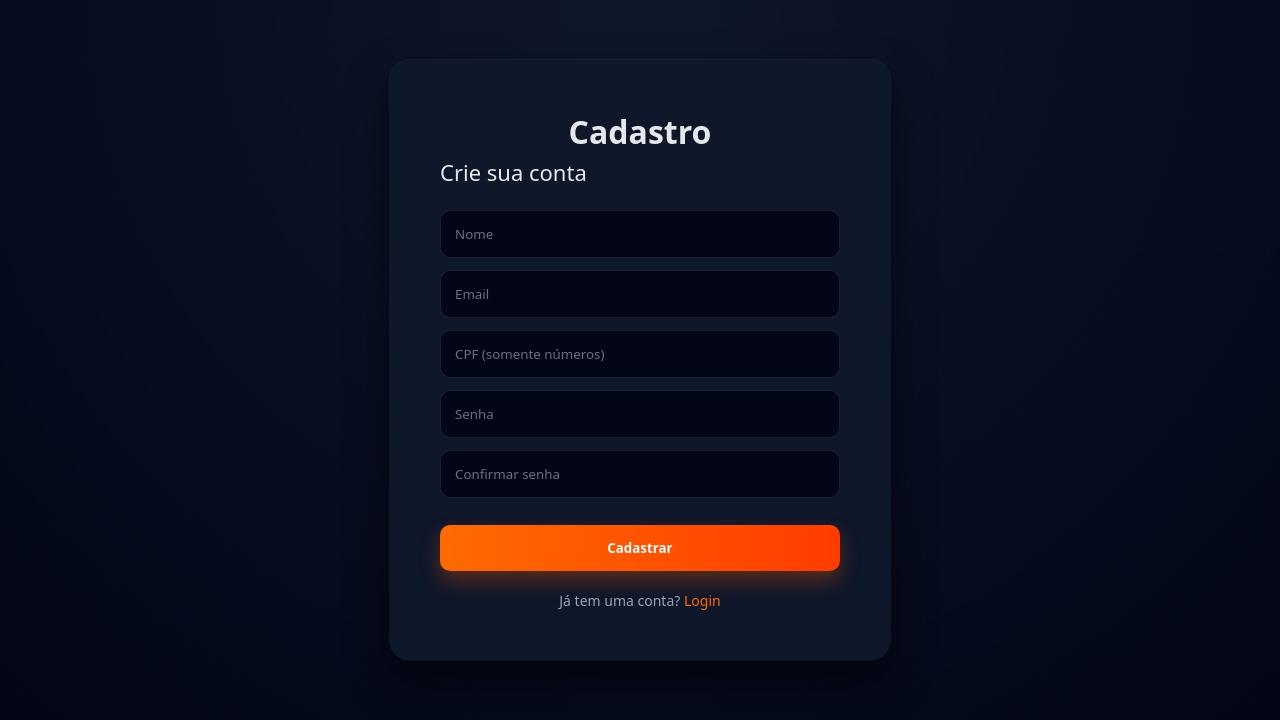
Test: Cadastro › deve mostrar erro com campos vazios
Click the button "Cadastrar" at (640, 548), box [440,525,840,571]
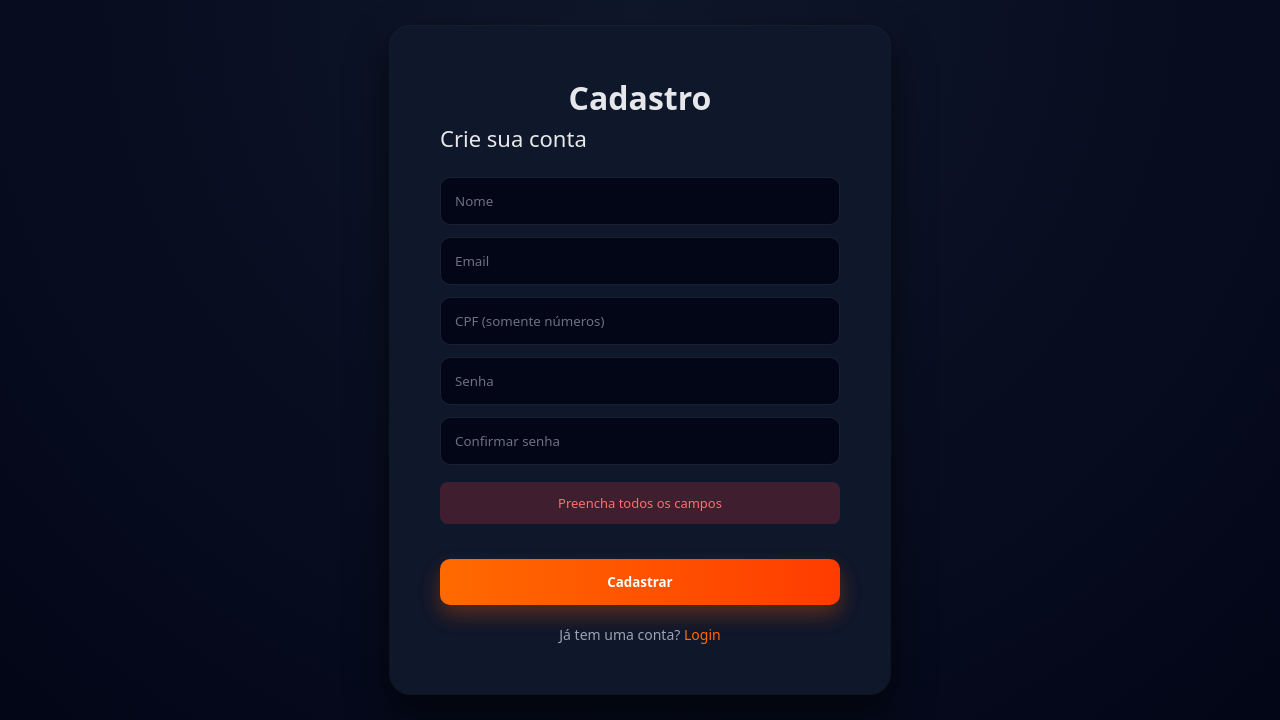
Check: the text "Preencha todos os campos" is shown, box [440,482,840,524]
